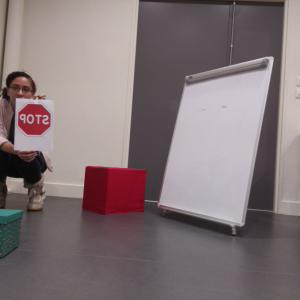stop: (18, 102, 52, 136)
